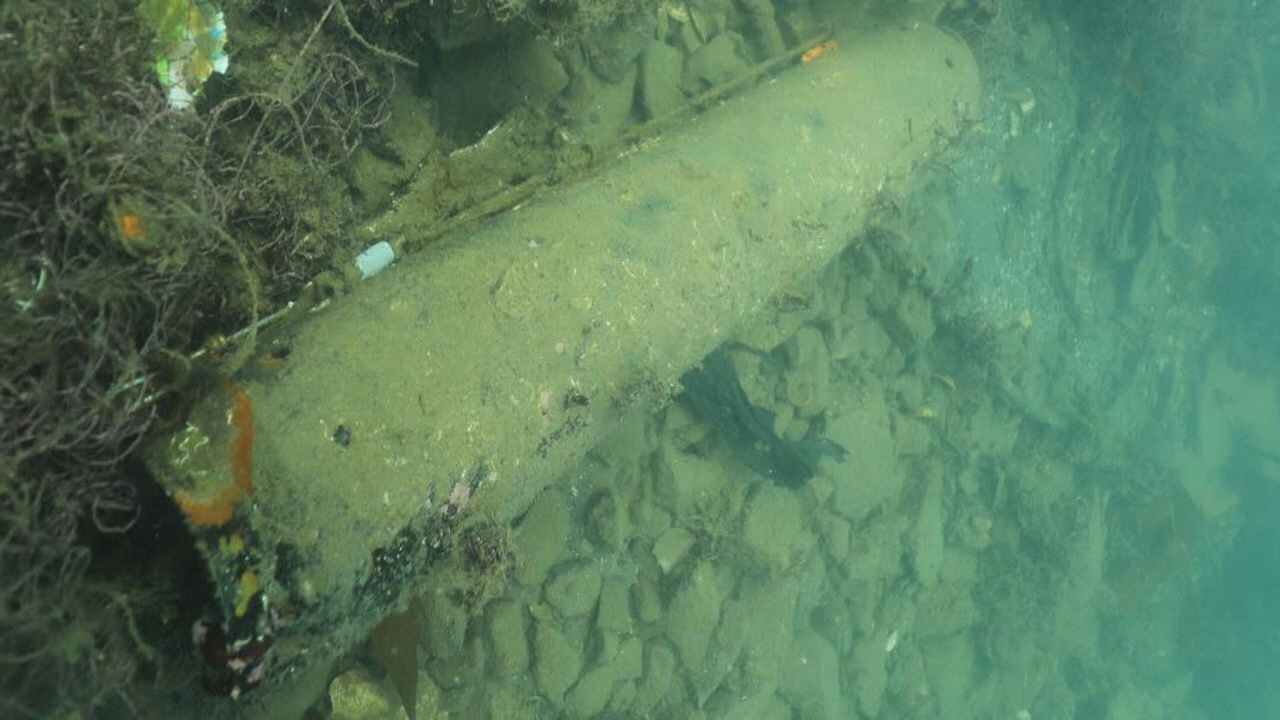eel fish trap: (139, 18, 985, 697)
